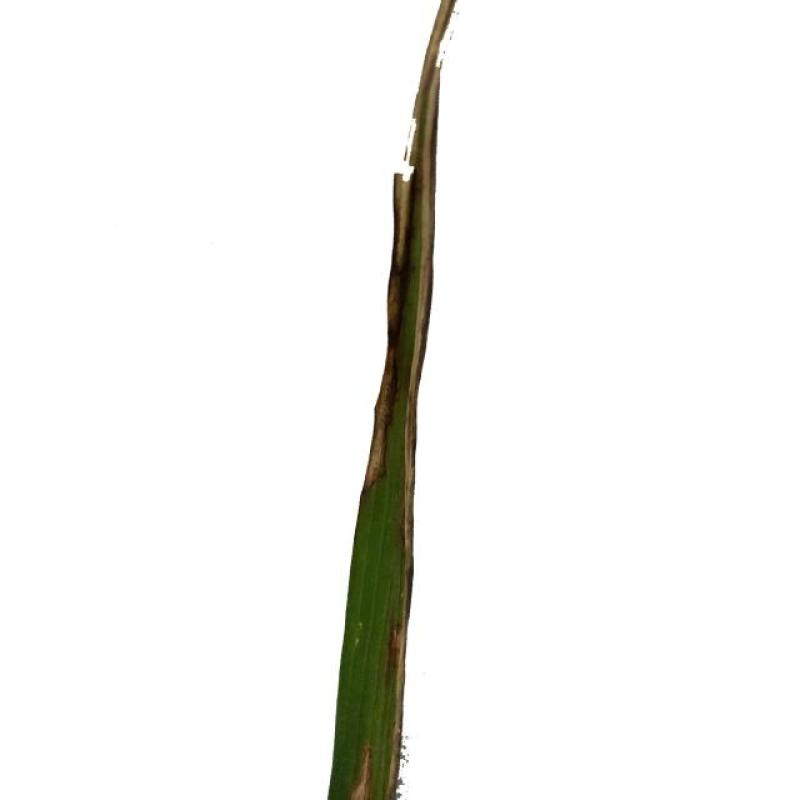Bacterial_Leaf_Blight: (389, 175, 436, 487)
